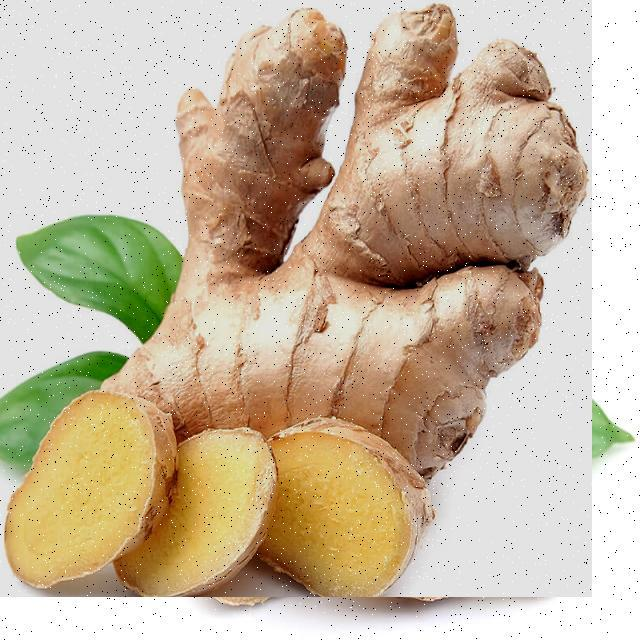ginger: (0, 0, 592, 597)
